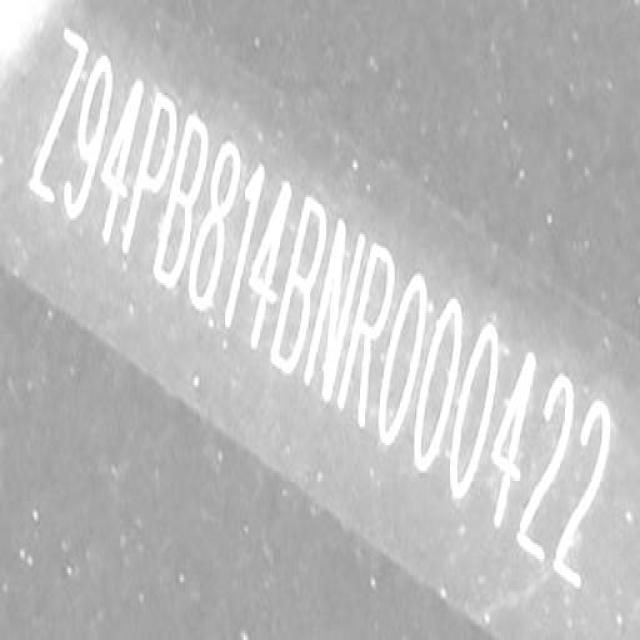0: (397, 284, 476, 496), (436, 308, 514, 519), (366, 258, 440, 466)
1: (213, 150, 272, 348)
2: (509, 358, 586, 575), (544, 383, 620, 601)
4: (232, 163, 308, 375), (474, 339, 548, 547), (84, 59, 153, 260)
8: (176, 124, 249, 335)
9: (52, 38, 122, 239)
B: (264, 184, 337, 392), (146, 105, 215, 311)
N: (296, 206, 373, 417)
P: (116, 80, 188, 287)
R: (330, 237, 404, 450)
Z: (17, 14, 96, 216)
